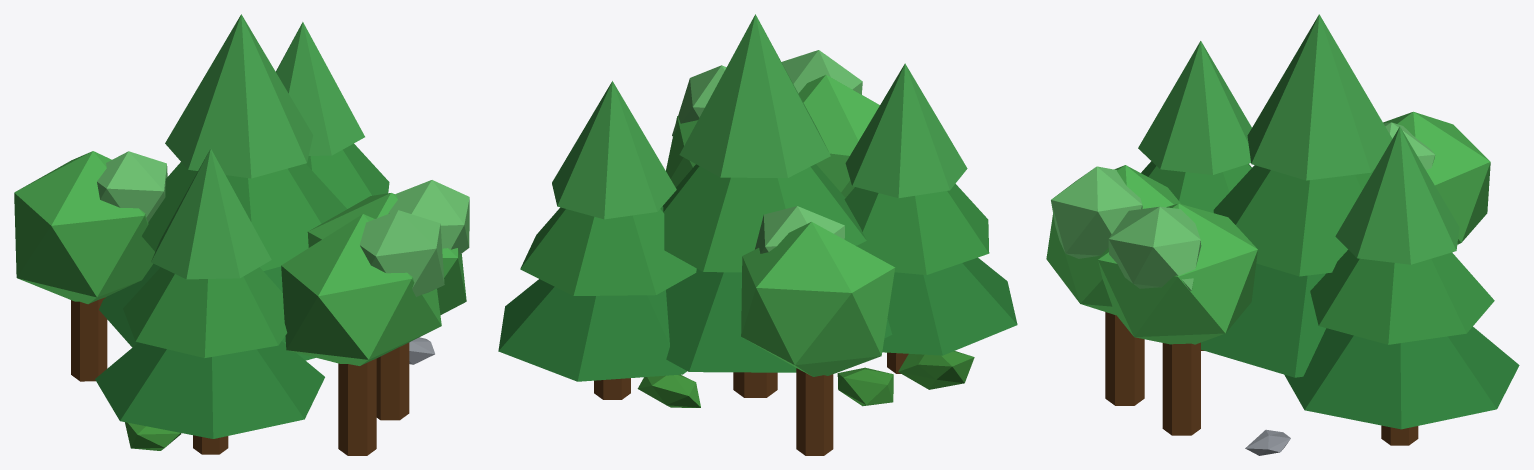
File: fe-forest-b-a4Rrd-Qt.glb
3 renders of one model, left to right at view 1: azimuth 30°, elevation 25°; view 2: azimuth 150°, elevation 25°; view 3: azimuth 270°, elevation 25°, orthographic.
Visible parts, largest first — view 1: Cylinder; view 2: Cylinder; view 3: Cylinder.
Part boxes in pixels (x1,y1,x2,y2): Cylinder: (14, 14, 469, 455); Cylinder: (498, 14, 1017, 455); Cylinder: (1046, 14, 1519, 455).
Size of the model in its own units: 0.9788 by 0.8804 by 0.9982.
